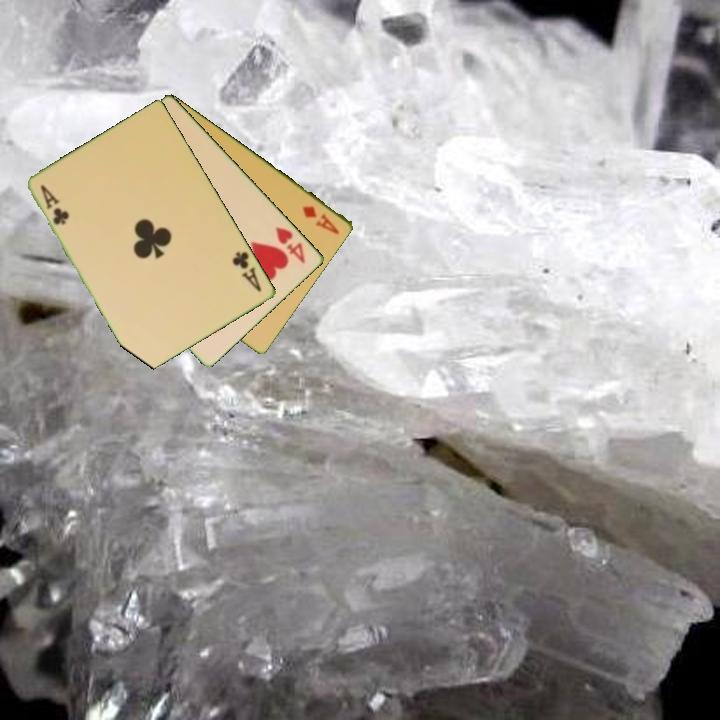4h: (272, 223, 309, 267)
Ac: (229, 248, 265, 295), (37, 181, 73, 228)
Ad: (299, 202, 343, 237)
